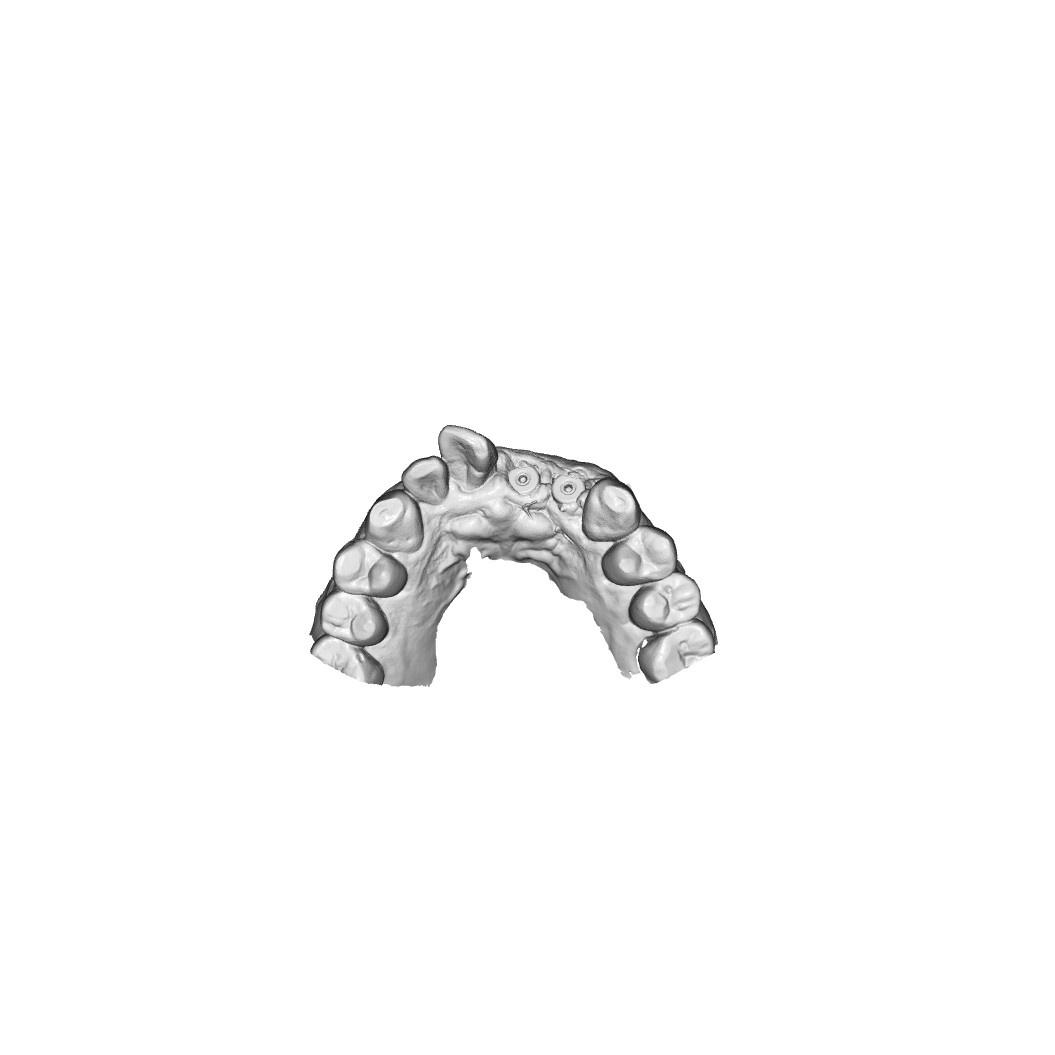canine: (363, 492, 429, 558), (579, 482, 637, 542)
implant: (506, 467, 542, 498), (552, 474, 584, 506)
incisor: (440, 425, 497, 493), (404, 455, 451, 507)
premolar: (599, 528, 678, 587), (331, 539, 407, 600), (629, 570, 703, 632), (316, 589, 388, 650)
